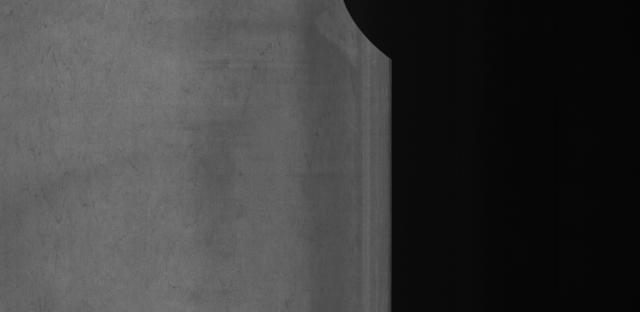crescent_gap: (330, 0, 394, 72)
